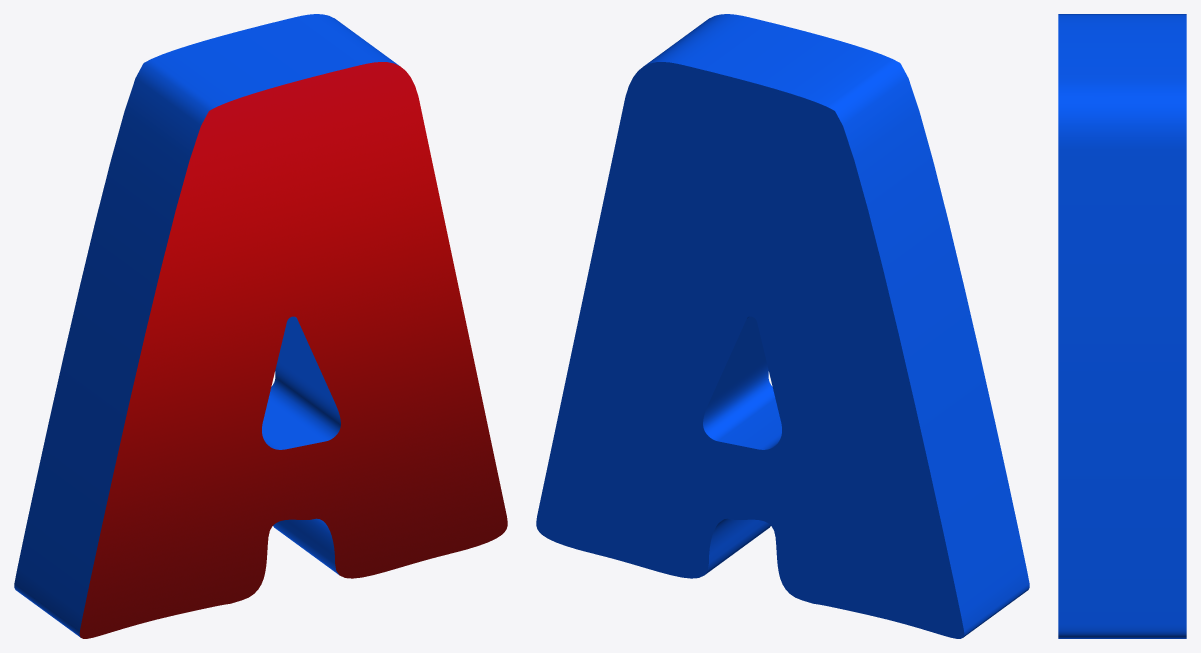
The picture shows the model from 3 angles, left to right: view 1: azimuth 30°, elevation 25°; view 2: azimuth 150°, elevation 25°; view 3: azimuth 270°, elevation 25°; orthographic projection. The views are drawn at different scales.
Visible parts, largest first — view 1: A; view 2: A; view 3: A.
Boxes of the visible parts, x1,y1,x2,y2 form: A: (14, 14, 507, 638); A: (536, 14, 1029, 638); A: (1058, 14, 1186, 638).
Bounding box in the file's own units: 75.53 × 86.54 × 20.
Materials: 2 (1 with a texture image).
